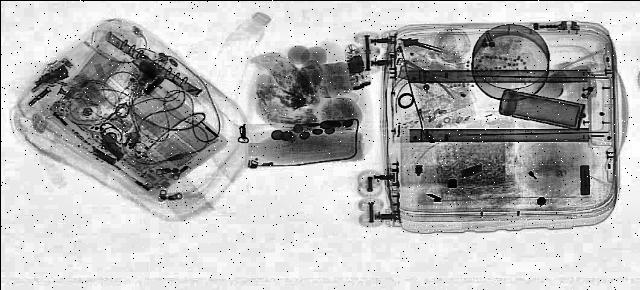Knife: (391, 34, 449, 56)
